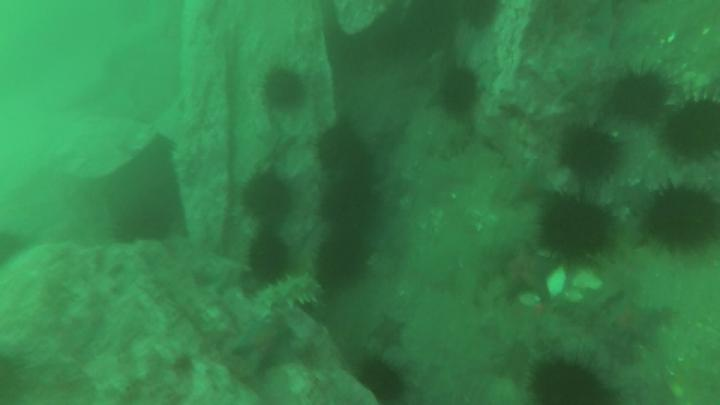echinus: (642, 186, 720, 251), (539, 196, 613, 262), (109, 196, 178, 243), (665, 100, 720, 158), (532, 362, 605, 405), (321, 173, 381, 224), (614, 72, 667, 126), (318, 234, 371, 283), (558, 124, 613, 171), (434, 70, 480, 115), (240, 177, 287, 220), (316, 128, 364, 169), (248, 234, 290, 279), (361, 365, 402, 402), (262, 71, 304, 106)
holothurian: (258, 275, 327, 303), (427, 127, 473, 159)
starfish: (230, 319, 296, 372), (501, 243, 557, 302), (611, 295, 666, 352), (505, 163, 553, 206), (255, 123, 295, 161), (369, 312, 405, 349)
